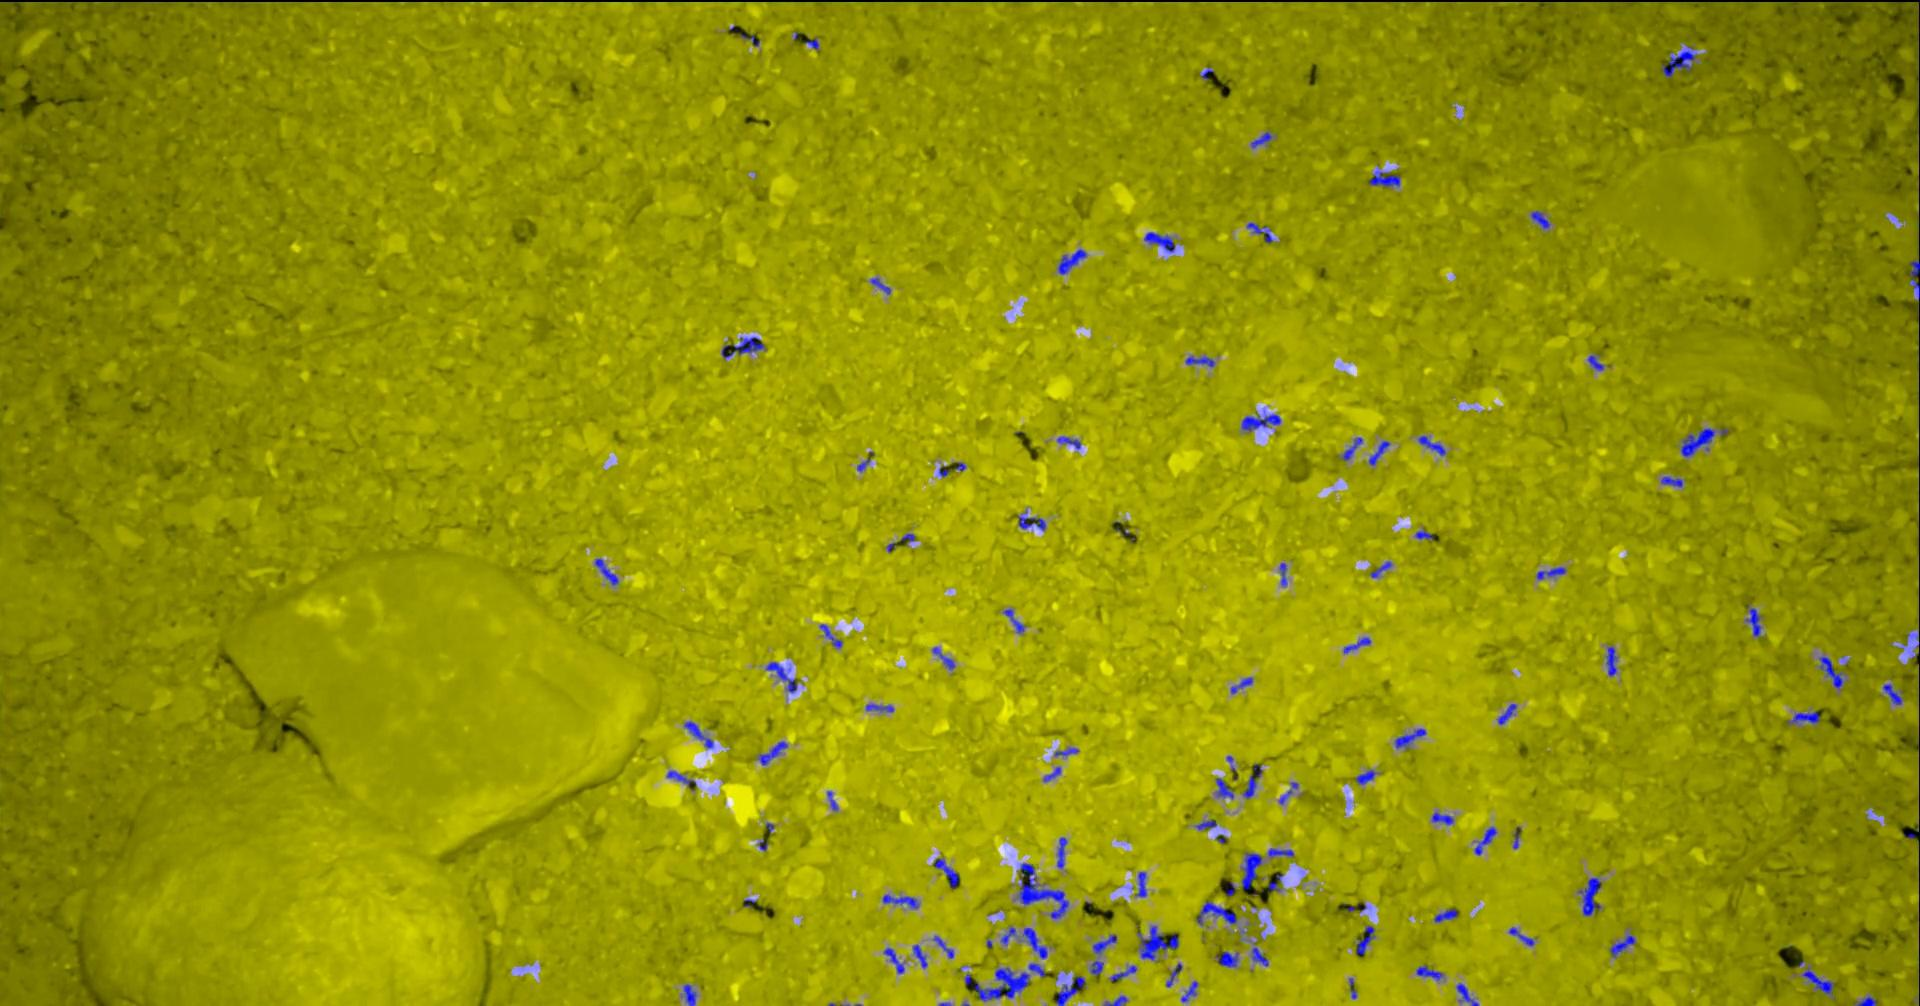ant: (964, 963, 1044, 1001), (1018, 862, 1068, 918), (1137, 925, 1178, 959), (1661, 46, 1695, 77), (1909, 213, 1919, 315), (764, 661, 796, 692), (1680, 427, 1714, 456), (1196, 901, 1236, 923), (721, 337, 764, 357), (1055, 976, 1084, 1005), (1578, 876, 1600, 915), (1802, 968, 1832, 995), (1818, 655, 1843, 688), (1057, 248, 1086, 274), (1241, 852, 1261, 890), (1022, 927, 1048, 958), (684, 721, 712, 747), (933, 857, 957, 887), (758, 741, 787, 763), (1242, 763, 1261, 798), (1241, 414, 1280, 431), (1143, 231, 1175, 251), (594, 558, 618, 584), (1474, 826, 1496, 855), (1394, 728, 1425, 748), (665, 770, 695, 789), (1355, 925, 1374, 954), (1368, 439, 1389, 465), (1609, 935, 1634, 956), (1246, 222, 1272, 243), (1418, 434, 1445, 455), (883, 948, 903, 973), (1017, 512, 1045, 530), (883, 894, 918, 908), (1341, 437, 1363, 460), (819, 624, 841, 647), (932, 647, 954, 669), (1003, 608, 1023, 633), (1457, 983, 1478, 1005), (1369, 170, 1399, 185), (1092, 934, 1116, 953), (1745, 607, 1760, 636), (933, 935, 952, 958), (1509, 927, 1533, 945), (1497, 702, 1516, 724), (1343, 636, 1370, 652), (1110, 965, 1137, 981), (1882, 683, 1901, 704), (1250, 131, 1272, 147), (1785, 711, 1818, 723), (1164, 963, 1181, 986), (1416, 965, 1443, 979), (912, 944, 927, 968), (1215, 777, 1233, 798), (1180, 981, 1197, 1001), (1230, 677, 1252, 694), (1537, 567, 1564, 579), (1530, 210, 1549, 227), (870, 277, 890, 293), (1605, 647, 1617, 676), (1355, 768, 1377, 784), (1215, 951, 1237, 967), (1251, 948, 1269, 965), (1370, 561, 1390, 577), (1432, 908, 1457, 921), (1185, 356, 1214, 366), (1057, 436, 1079, 448), (1431, 812, 1453, 824), (1043, 766, 1060, 781), (1057, 837, 1065, 868), (1267, 847, 1293, 857), (683, 984, 696, 1005), (1135, 871, 1145, 895), (1587, 354, 1603, 370), (1660, 476, 1683, 486), (1103, 995, 1126, 1005), (1269, 874, 1283, 890), (1195, 819, 1217, 829), (865, 704, 893, 711), (1001, 927, 1015, 942), (1090, 960, 1103, 976), (1855, 996, 1877, 1005), (1279, 561, 1286, 586), (1054, 747, 1078, 754), (1415, 530, 1432, 540), (1917, 27, 1919, 133)
